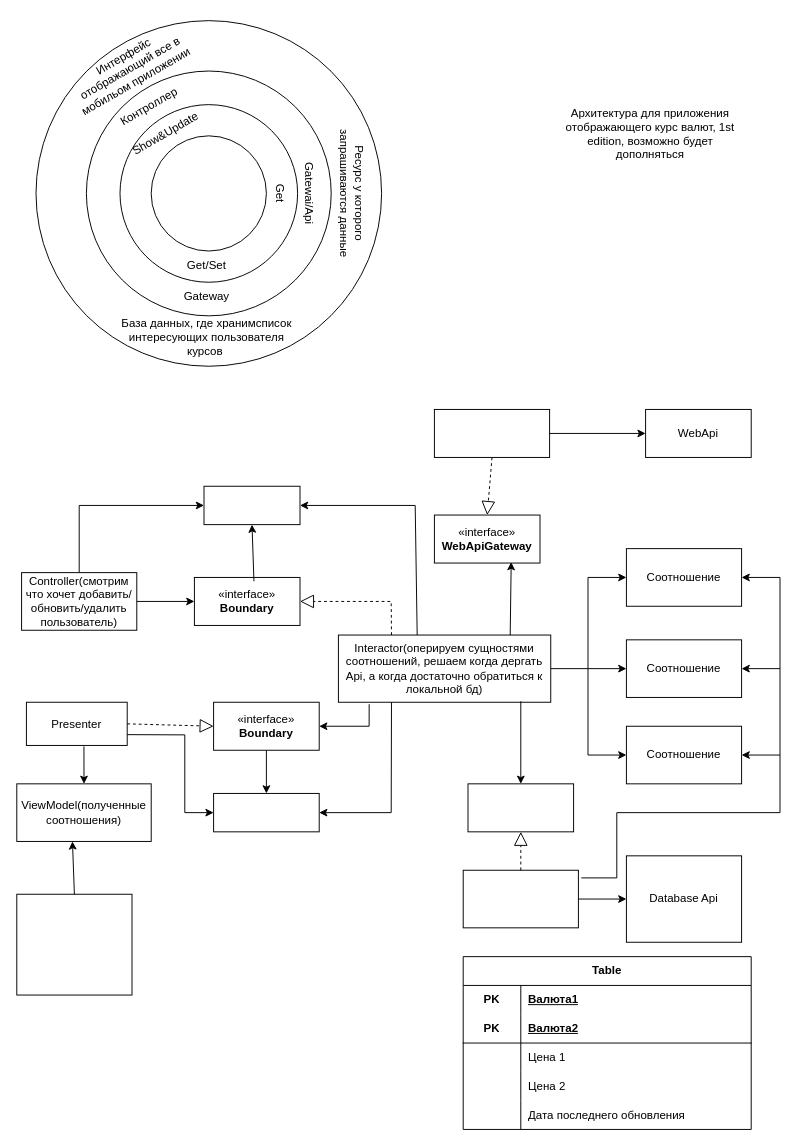
The diagram is 804 pixels wide and 1147 high, and some of its shapes have lost their labels. The shapes that lost their labels are listed below. From the top down, each one's centre as x and y in pixels, then its label:
(x=208, y=193): Сущности - отношения стоимости валют друг к другу
(x=491, y=432): WebApiGateway
(x=251, y=505): Request
(x=266, y=812): Response
(x=520, y=807): «interface» Database Entity Gateway
(x=520, y=898): Database Entity Gateway
(x=74, y=944): Отображение на экране
